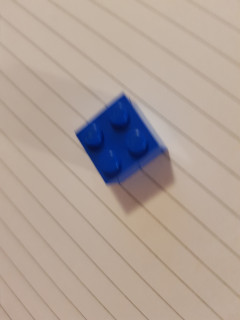2x2 blue: (73, 92, 168, 188)
